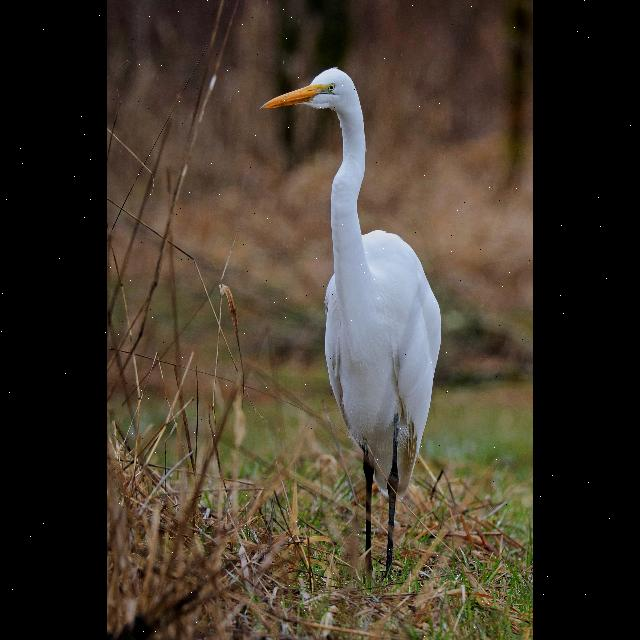egret: (251, 61, 451, 571)
